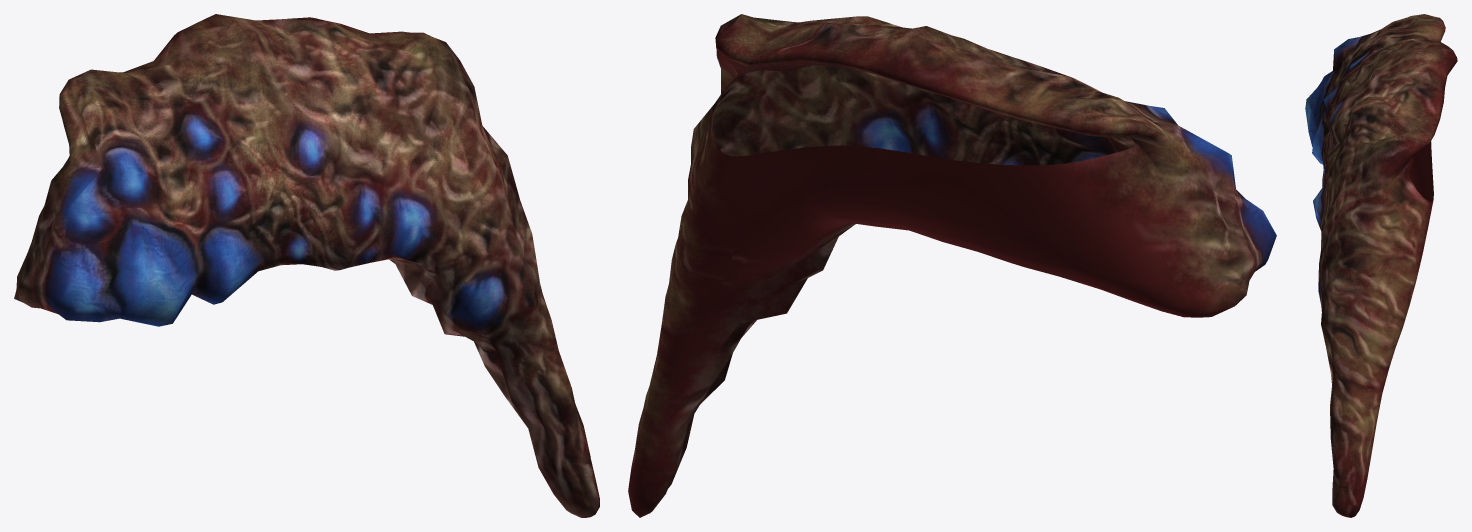
The model's file is FBX_goo_drain_open.fbx.
3 renders of one model, left to right at view 1: azimuth 30°, elevation 25°; view 2: azimuth 150°, elevation 25°; view 3: azimuth 270°, elevation 25°, orthographic. The views are drawn at different scales.
Parts seen in each view (by area): view 1: goo_drain_open_geo; view 2: goo_drain_open_geo; view 3: goo_drain_open_geo.
Boxes of the visible parts, x1,y1,x2,y2 form: goo_drain_open_geo: (14,14,599,517); goo_drain_open_geo: (628,14,1276,517); goo_drain_open_geo: (1305,14,1457,517).
Bounding box in the file's own units: 2.31 × 0.7889 × 2.1.
